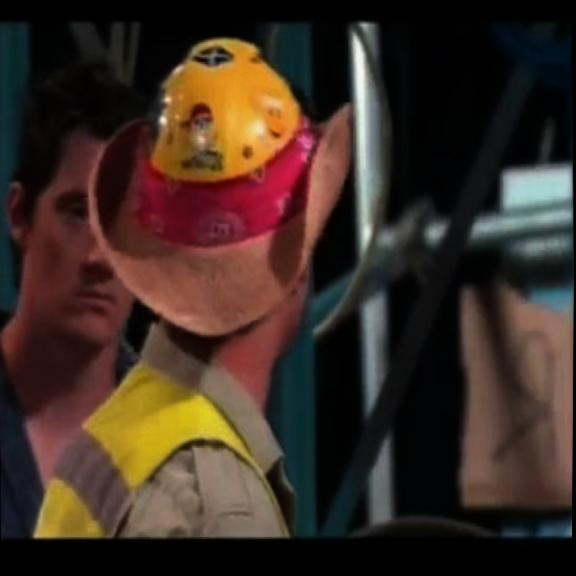safety_vest: (26, 352, 296, 544)
